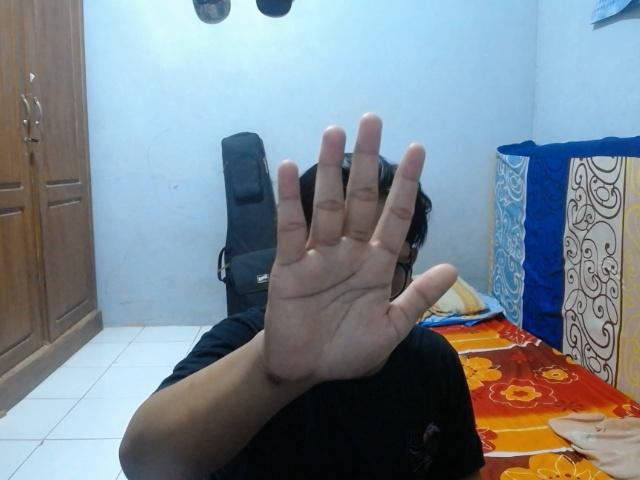Release: (266, 104, 466, 387)
